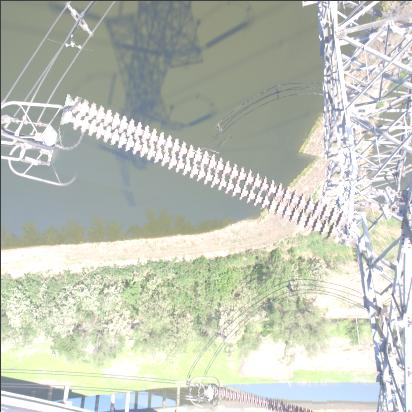insulator: (51, 112, 373, 230), (214, 388, 327, 412)
